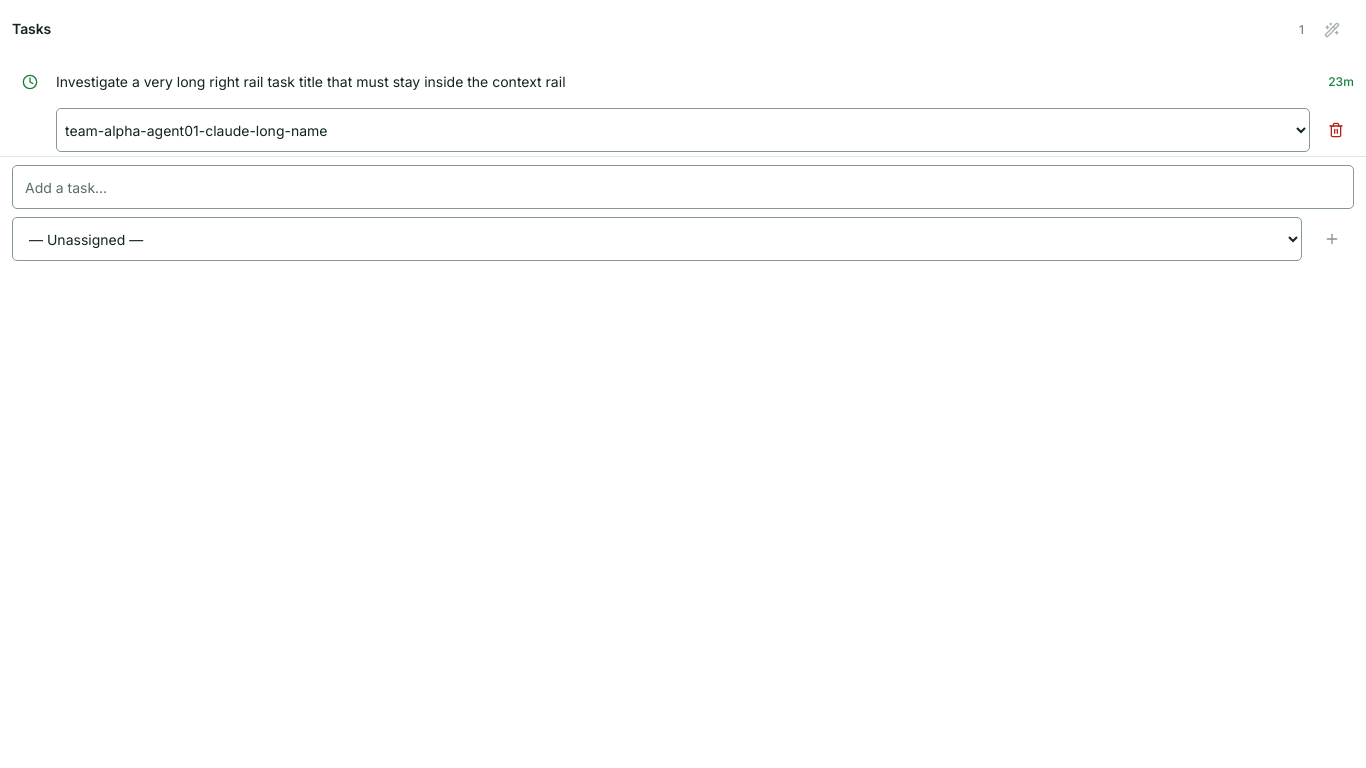
Test: TasksSection detail dialog › draws the progress timeline in order and ends running work at now
Click the button with aria-label "Open Investigate a very long right rail task title that must" at (311, 82), box [56,60,1324,104]
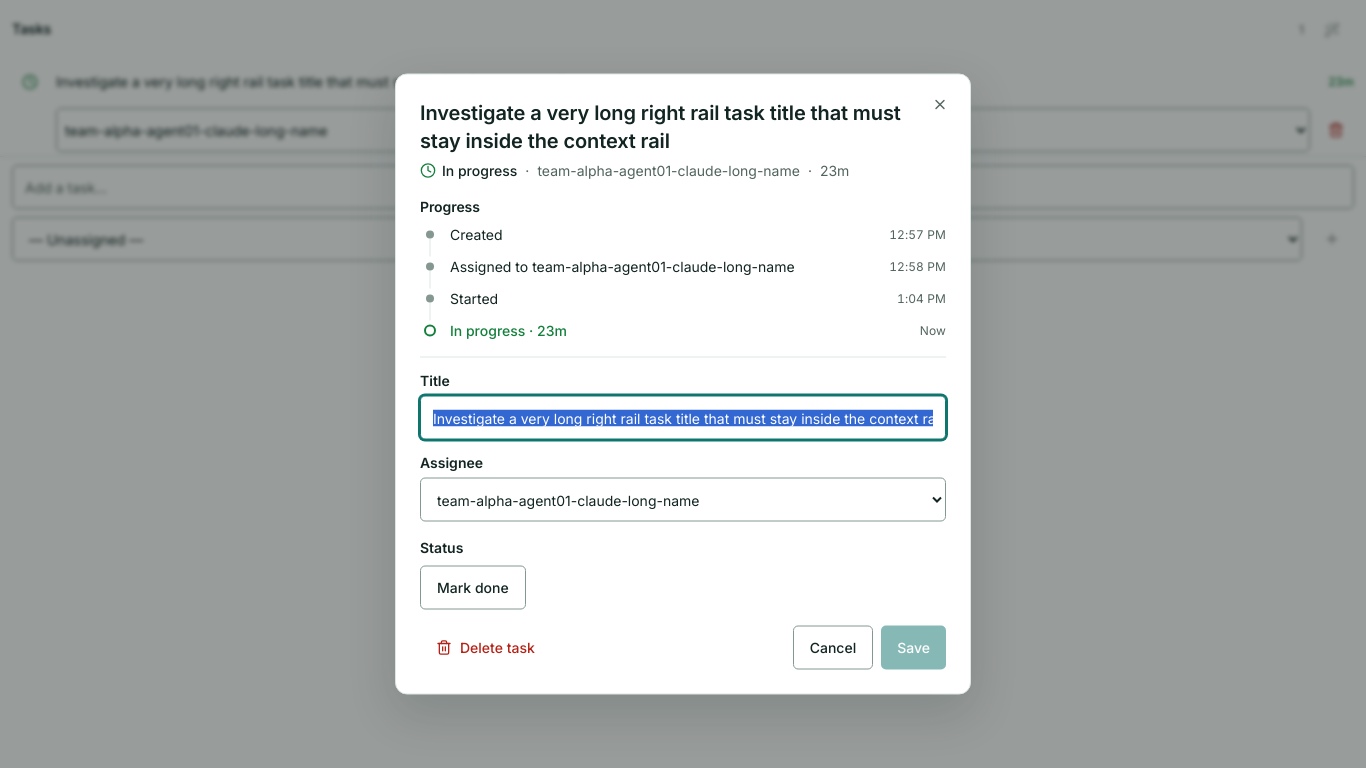
Now the list item "Created 12:57 PM" is shown, box [426,226,946,242]
Now the list item "Started 1:04 PM" is shown, box [426,290,946,306]
Now the list item "In progress · 23m Now" is shown, box [420,320,946,340]
